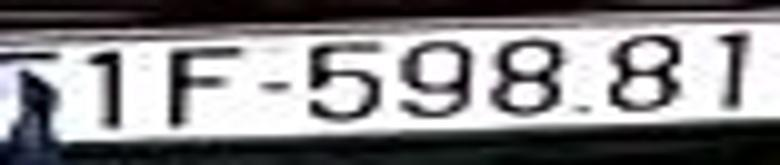-: (256, 78, 293, 98)
.: (569, 98, 593, 122)
1: (84, 49, 126, 132), (714, 29, 750, 112)
5: (309, 43, 385, 124)
8: (489, 34, 562, 118), (609, 32, 682, 116)
9: (401, 38, 471, 126)
F: (166, 44, 243, 134)
